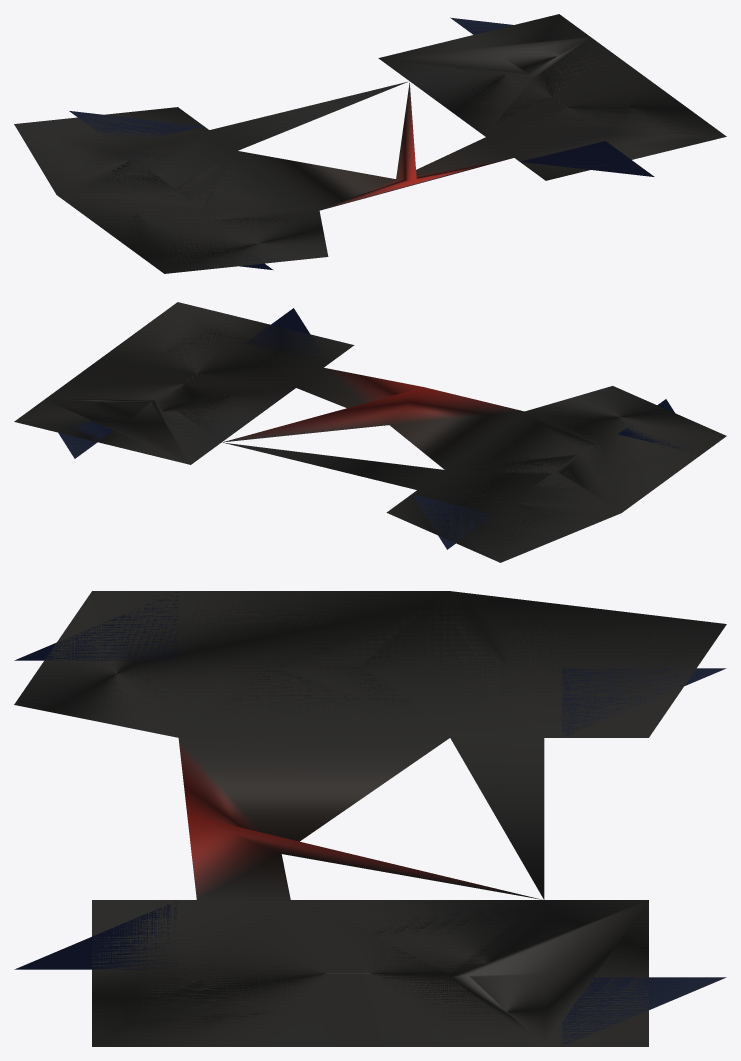
File: solar_panel_lod5.glb
3 renders of one model, top to bottom at view 1: azimuth 30°, elevation 25°; view 2: azimuth 150°, elevation 25°; view 3: azimuth 270°, elevation 25°, orthographic. The views are drawn at different scales.
Parts seen in each view (by area): view 1: solar_panel; view 2: solar_panel; view 3: solar_panel.
Part boxes in pixels (box(x1,y1,x2,y2)): solar_panel: box(14, 14, 726, 273); solar_panel: box(14, 302, 726, 562); solar_panel: box(14, 591, 726, 1046).
Bounding box in the file's own units: 5.9 × 0.2 × 3.9.
